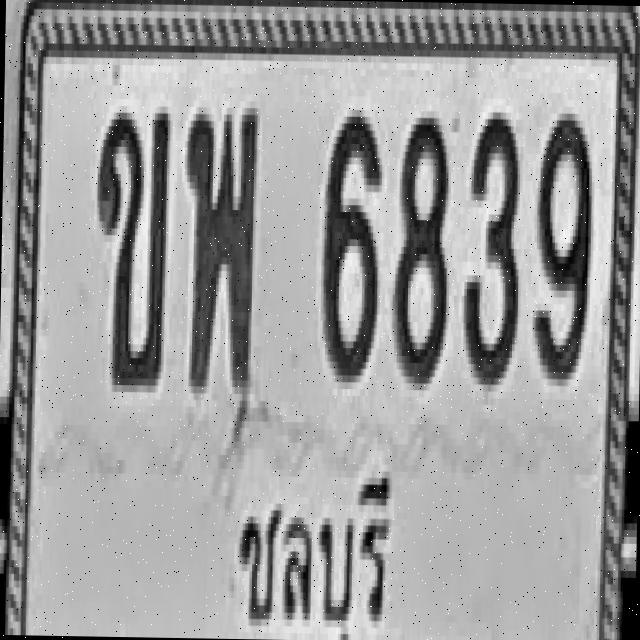11KhorKhai: (94, 105, 170, 385)
3: (462, 104, 521, 384)
39PhorPan: (182, 100, 259, 393)
6: (321, 105, 382, 378)
8: (390, 106, 450, 380)
9: (532, 106, 592, 379)
Chonburi: (226, 446, 404, 640)
